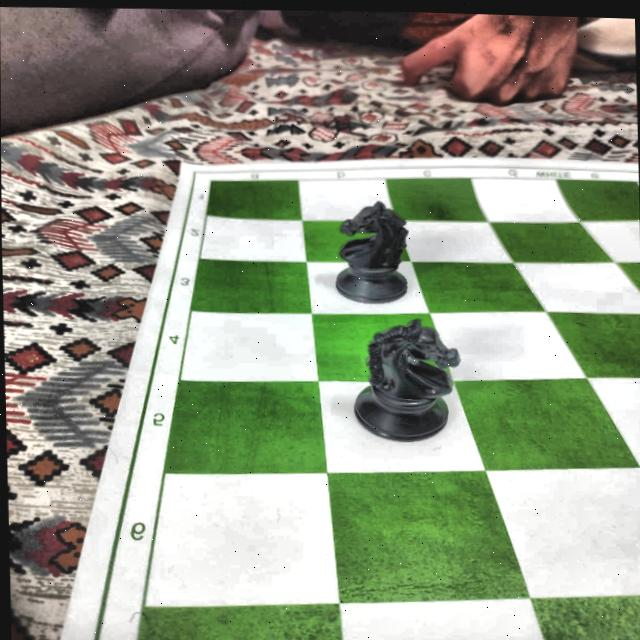BlackKnight: (350, 313, 461, 442), (328, 197, 409, 307)
